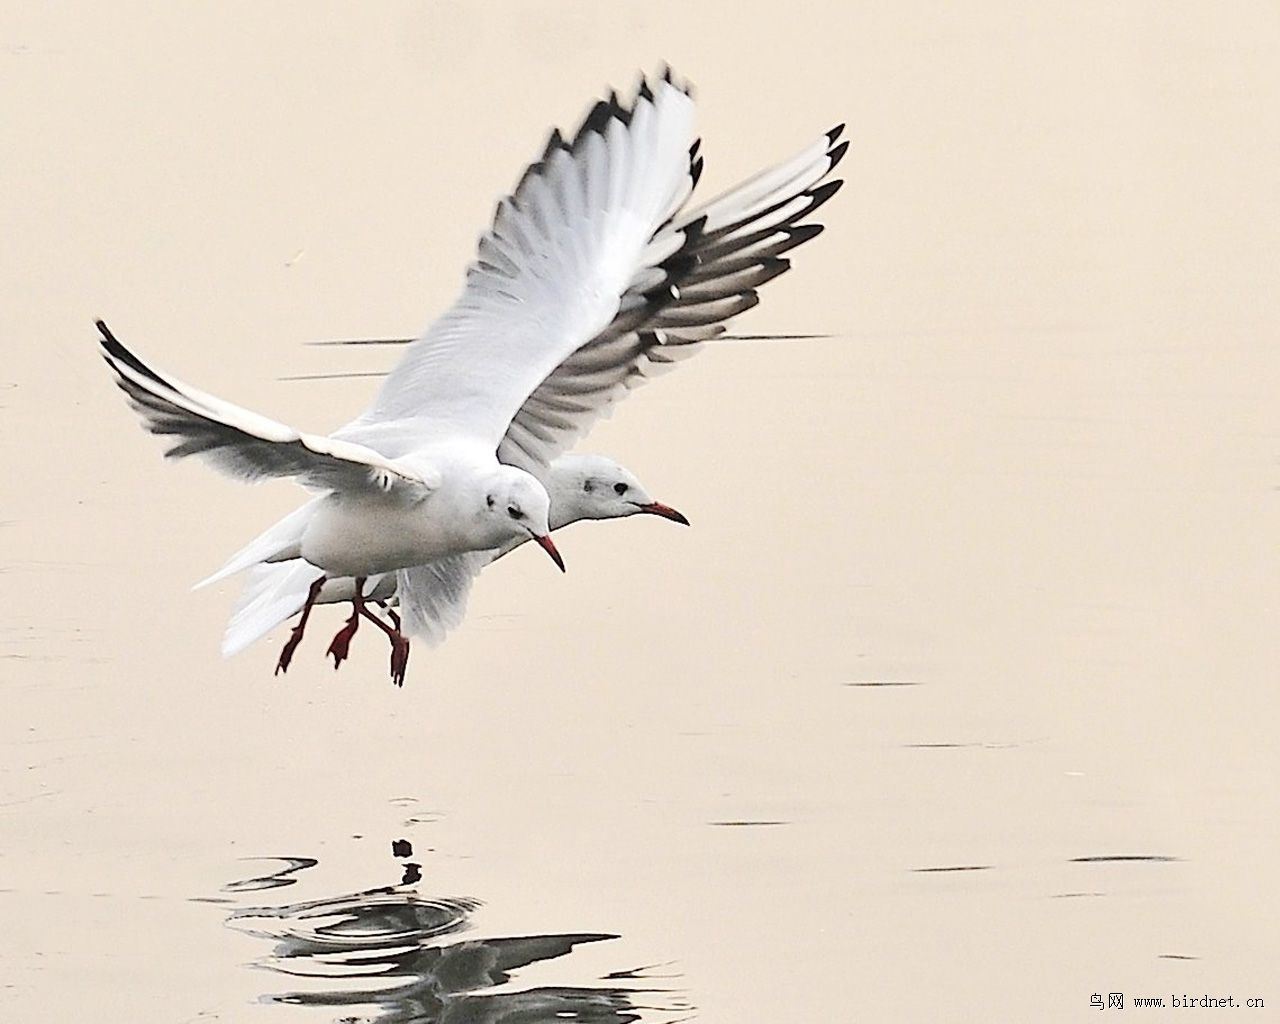bird: (86, 64, 682, 675), (330, 120, 850, 660)
